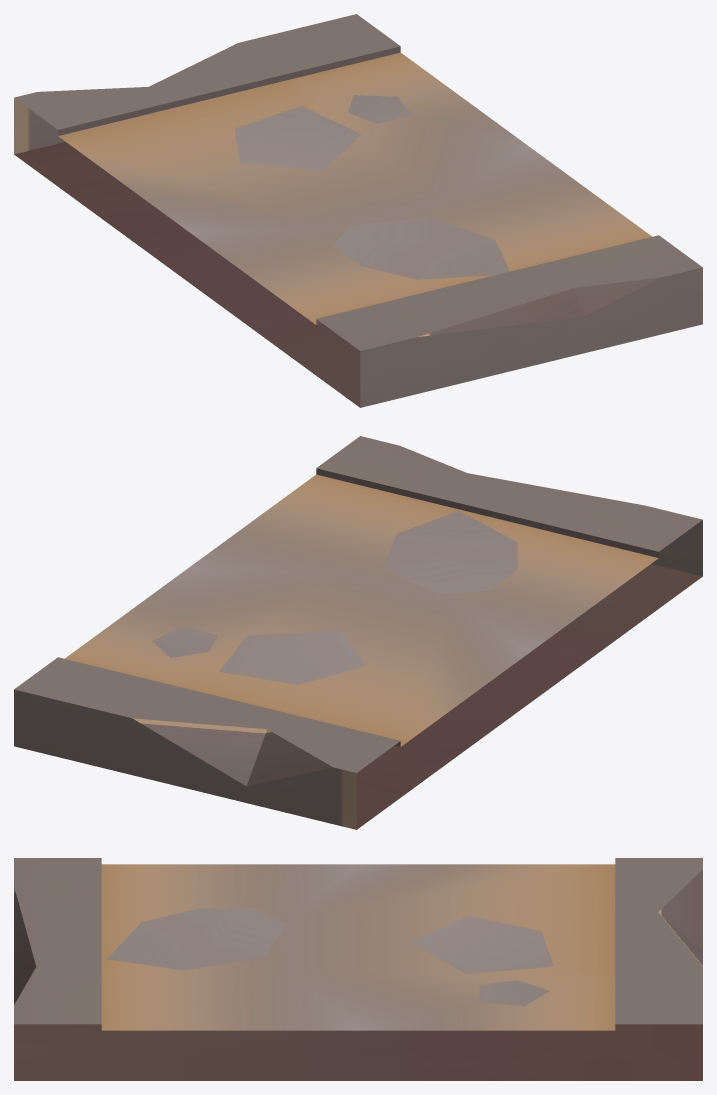
The model's file is SM_Building_Bridge_02.fbx.
3 renders of one model, top to bottom at view 1: azimuth 30°, elevation 25°; view 2: azimuth 150°, elevation 25°; view 3: azimuth 270°, elevation 25°, orthographic.
Parts seen in each view (by area): view 1: SM_Building_Bridge_02; view 2: SM_Building_Bridge_02; view 3: SM_Building_Bridge_02.
Boxes of the visible parts, <box> form: SM_Building_Bridge_02: <box>14,14,702,407</box>; SM_Building_Bridge_02: <box>14,436,702,829</box>; SM_Building_Bridge_02: <box>14,858,702,1080</box>.
Bounding box in the file's own units: 2 × 0.3172 × 3.5.
